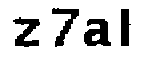7: (45, 6, 80, 48)
a: (80, 12, 112, 49)
l: (118, 7, 137, 51)
z: (9, 14, 40, 47)
